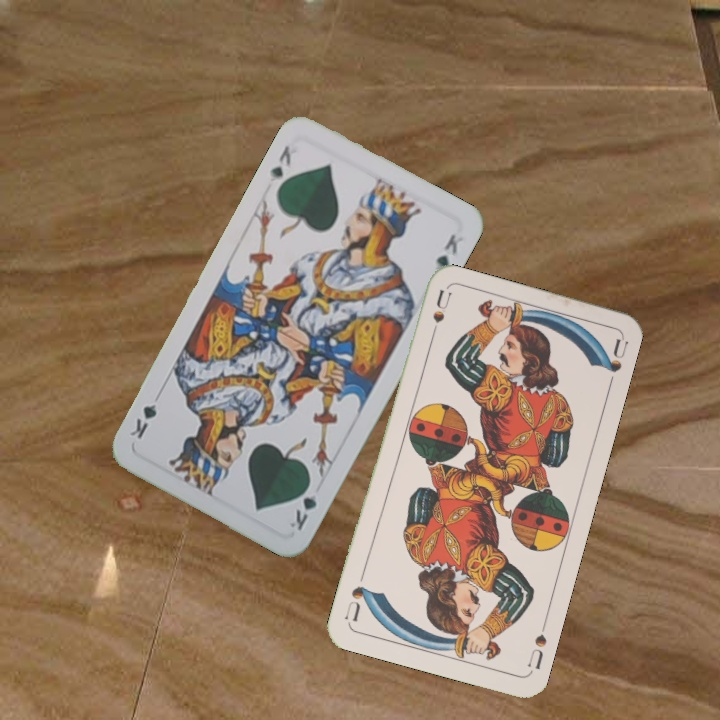GK: (285, 477, 322, 534), (266, 141, 294, 186)
SU: (425, 287, 453, 346), (523, 630, 550, 672)
